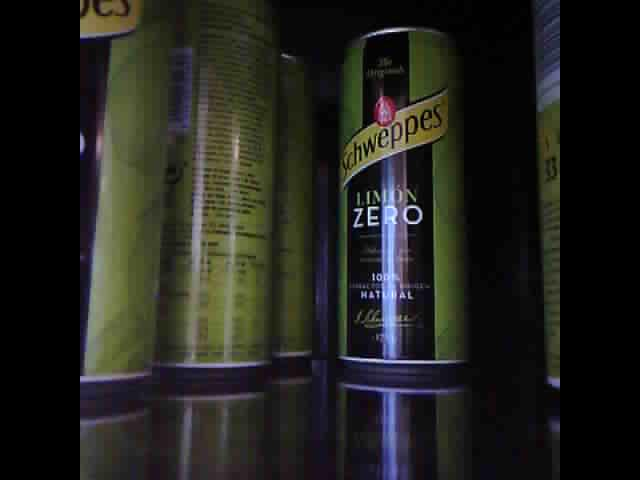schweppes: (150, 4, 276, 379), (341, 24, 467, 380), (81, 1, 169, 393), (270, 29, 314, 369), (525, 3, 561, 391)
